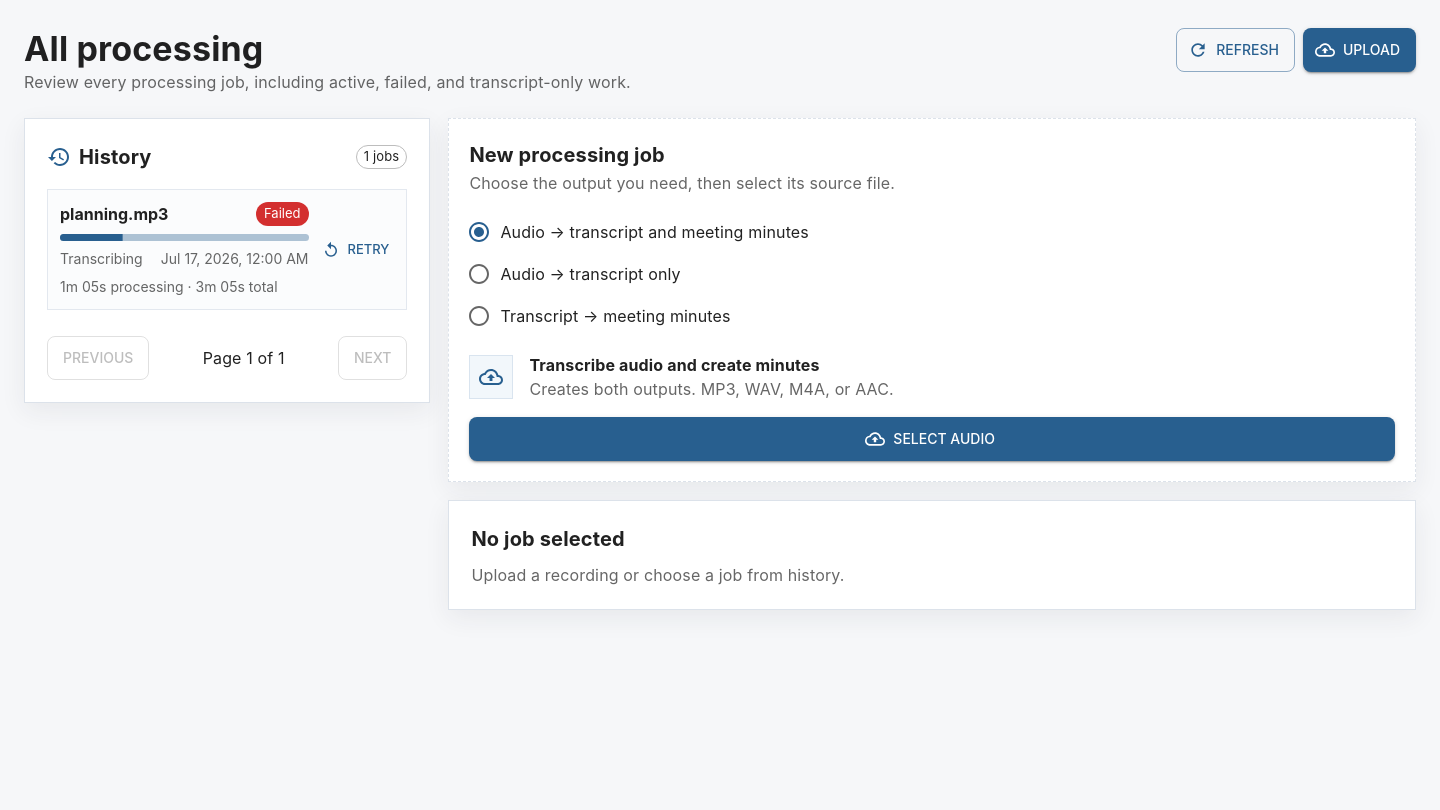
Test: MeetingMind workflow › shows an actionable retry error returned by the API
Click the button "Retry" at (356, 250), box 318,228 -> 394,272
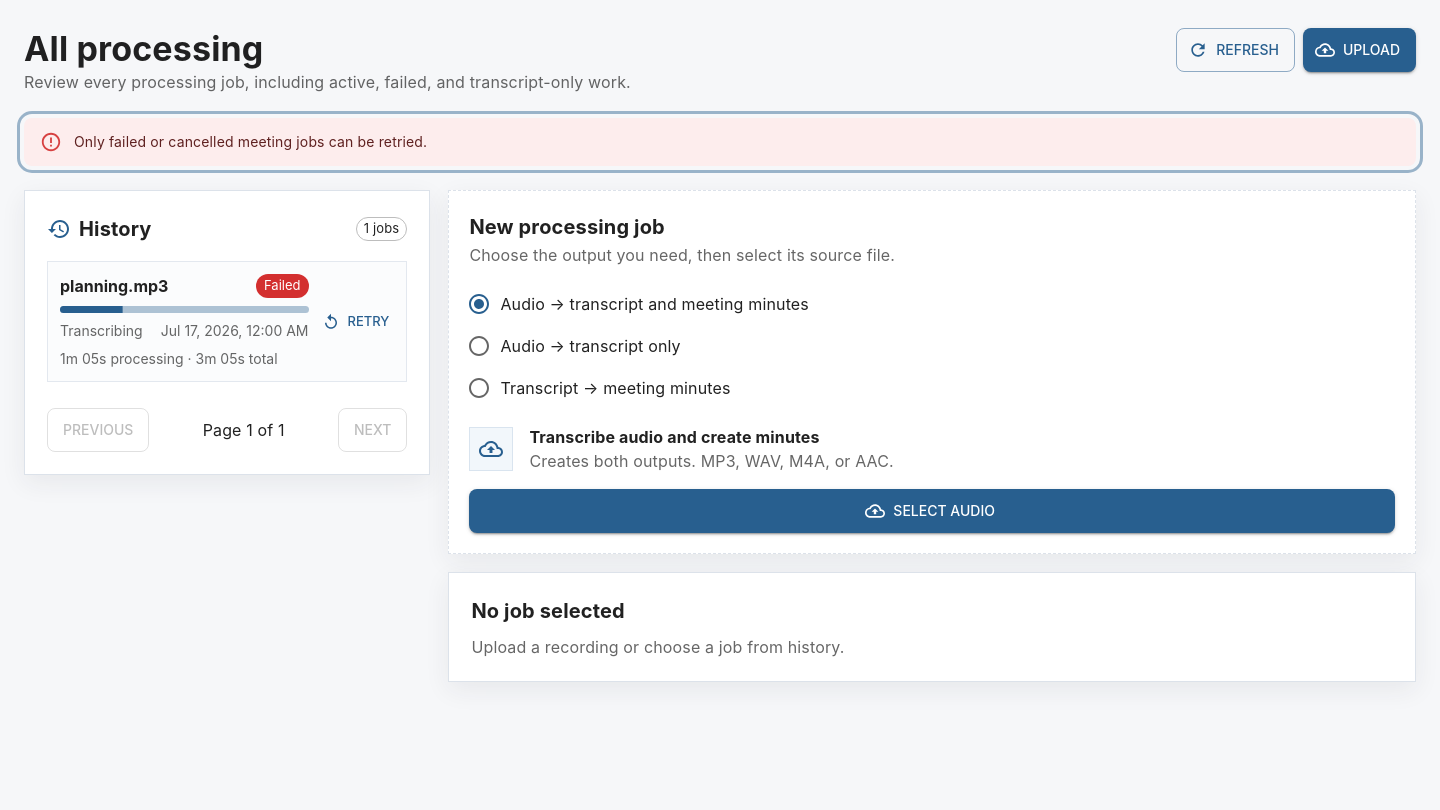
Expected: the text "Only failed or cancelled meeting jobs can be retried." is shown, 74,133 -> 427,150
